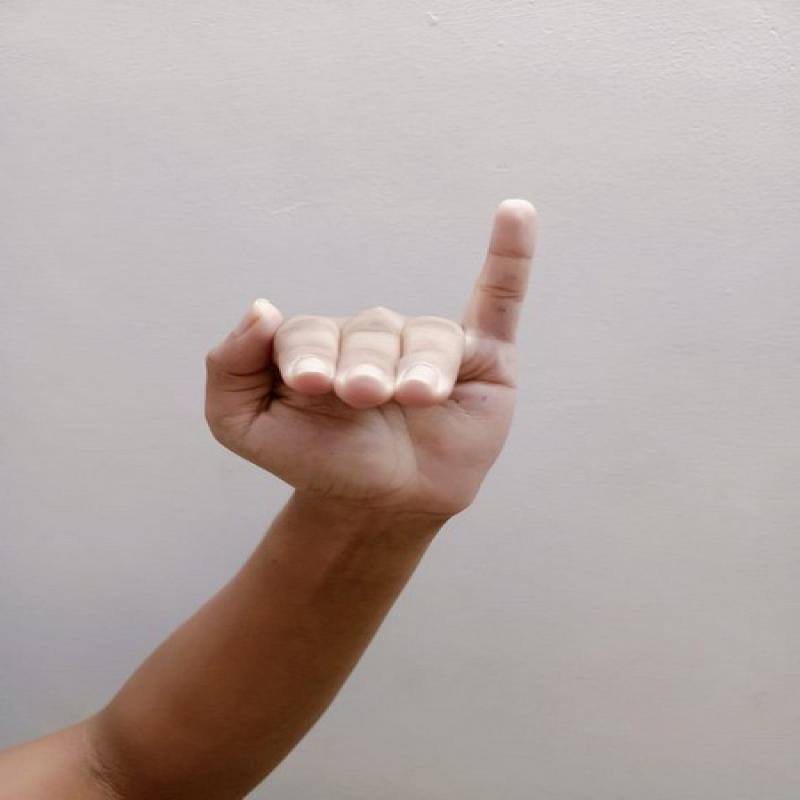Kartharee Mukham: (189, 189, 552, 534)
